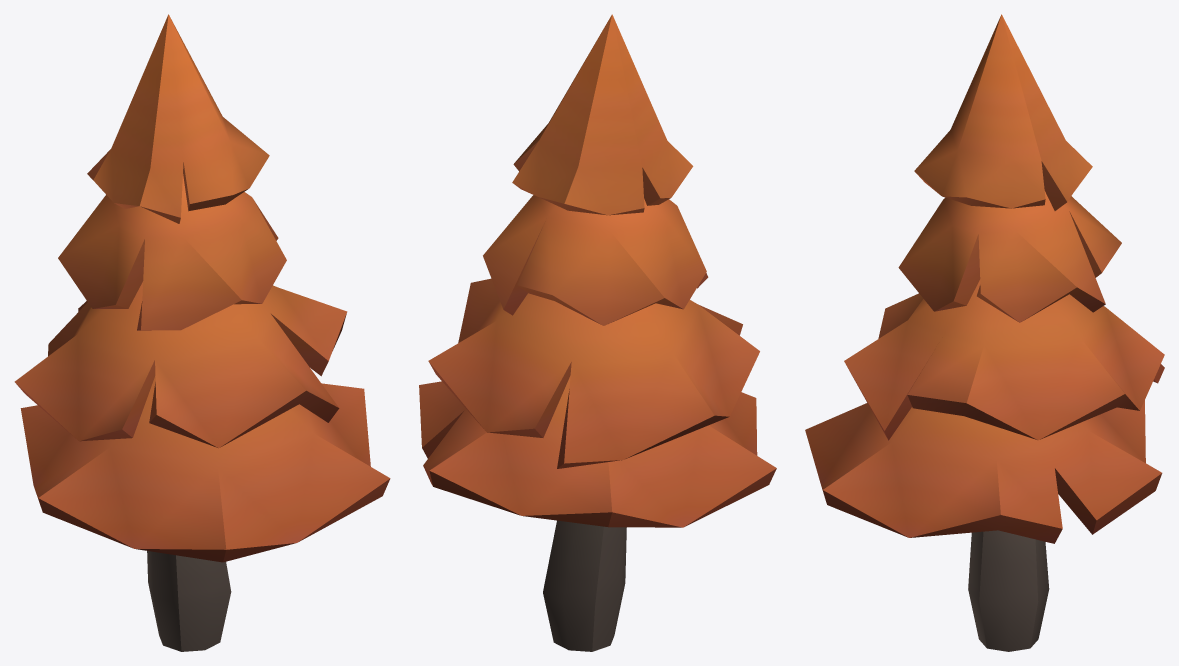
The model's file is kay-pinheiro-laranja.gltf.
3 renders of one model, left to right at view 1: azimuth 30°, elevation 25°; view 2: azimuth 150°, elevation 25°; view 3: azimuth 270°, elevation 25°, orthographic. The views are drawn at different scales.
Visible parts, largest first — view 1: tree_pine_orange_medium; view 2: tree_pine_orange_medium; view 3: tree_pine_orange_medium.
Boxes of the visible parts, bbox=[...] form: tree_pine_orange_medium: bbox=[14, 14, 390, 651]; tree_pine_orange_medium: bbox=[419, 14, 776, 651]; tree_pine_orange_medium: bbox=[805, 14, 1164, 651].
Bounding box in the file's own units: 1.66 × 2.94 × 1.56.
1 material, 1 textured.
